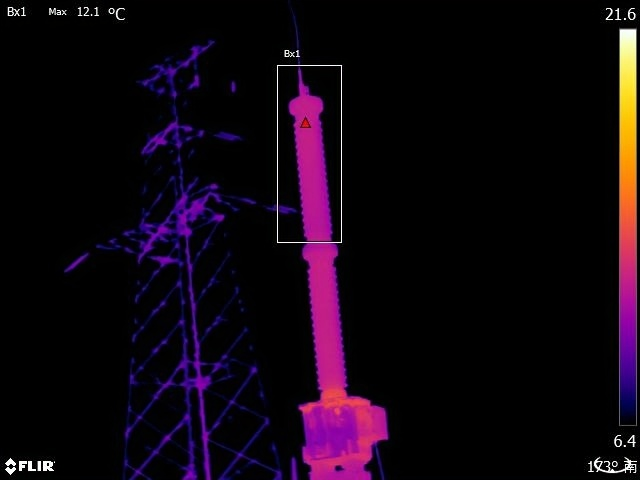potential transformer: (287, 86, 380, 459)
